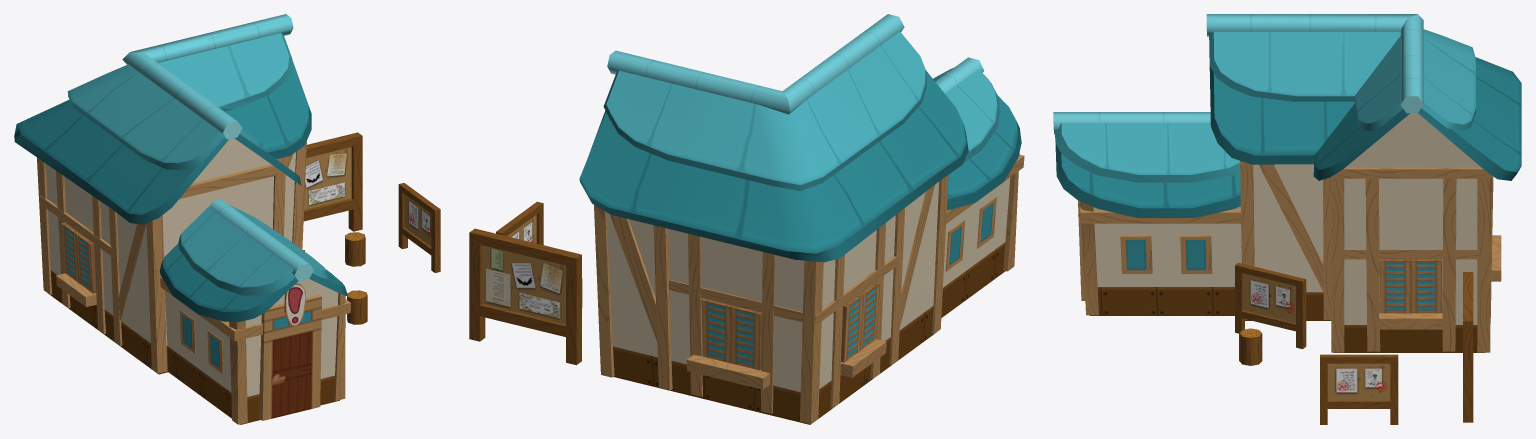
The model's file is building_Commissioner_lv3.FBX.
The picture shows the model from 3 angles, left to right: view 1: azimuth 30°, elevation 25°; view 2: azimuth 150°, elevation 25°; view 3: azimuth 270°, elevation 25°; orthographic projection. The views are drawn at different scales.
Parts seen in each view (by area): view 1: building_Commissioner_main_lv3, building_Commissioner_lv3, building_Commissioner_etc_lv3; view 2: building_Commissioner_main_lv3, building_Commissioner_lv3, building_Commissioner_etc_lv3; view 3: building_Commissioner_main_lv3, building_Commissioner_lv3, building_Commissioner_etc_lv3.
Boxes of the visible parts, x1=… form: building_Commissioner_main_lv3: x1=14, y1=14, x2=347, y2=424; building_Commissioner_lv3: x1=37, y1=141, x2=351, y2=424; building_Commissioner_etc_lv3: x1=303, y1=132, x2=440, y2=324; building_Commissioner_main_lv3: x1=579, y1=14, x2=1021, y2=424; building_Commissioner_lv3: x1=594, y1=152, x2=1024, y2=424; building_Commissioner_etc_lv3: x1=469, y1=201, x2=582, y2=365; building_Commissioner_main_lv3: x1=1053, y1=14, x2=1521, y2=352; building_Commissioner_lv3: x1=1078, y1=161, x2=1501, y2=352; building_Commissioner_etc_lv3: x1=1235, y1=262, x2=1473, y2=424.
Bounding box in the file's own units: 505 × 355 × 549.
